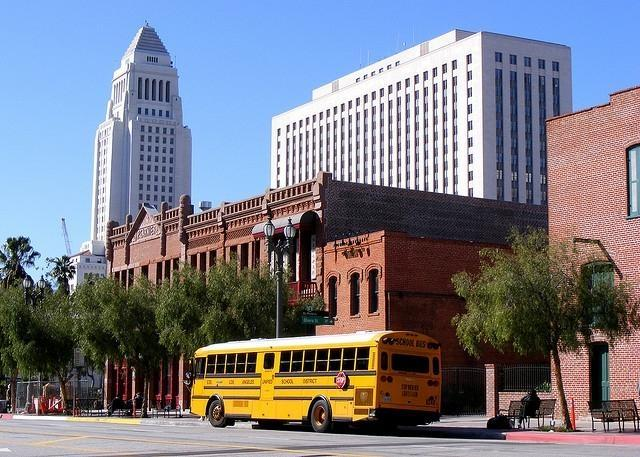bus: (192, 332, 440, 434)
